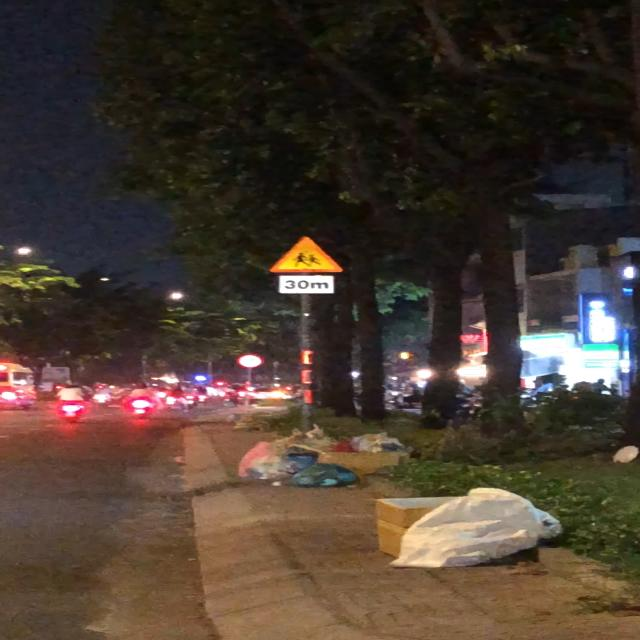Bien bao tre em: (266, 235, 354, 275)
